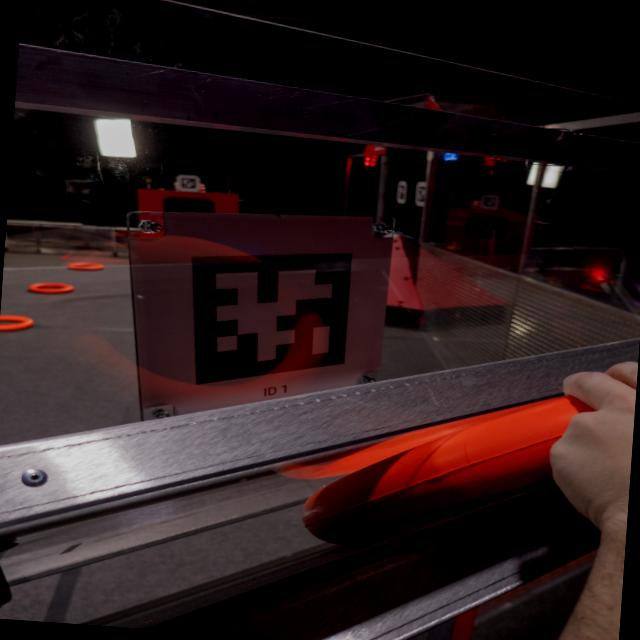note: (294, 372, 598, 564), (24, 279, 74, 297), (0, 312, 35, 337), (64, 260, 105, 274)
